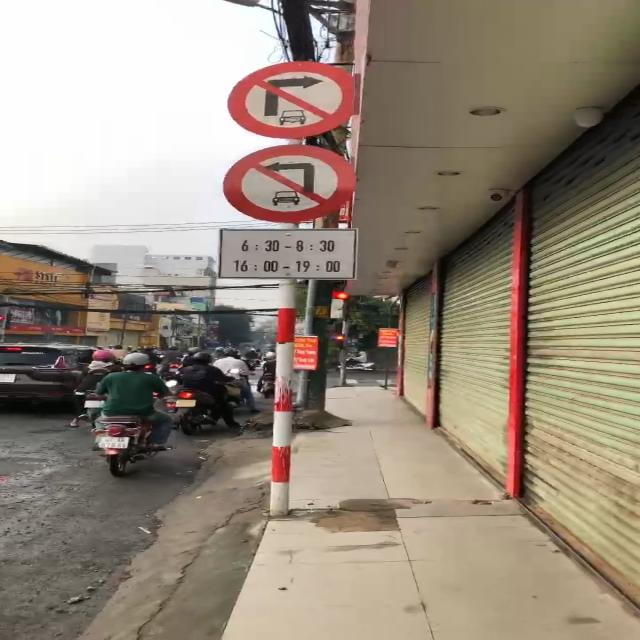Bien bao cam xe o to re phai: (224, 61, 370, 138)
Bien bao cam xe o to re trai: (214, 142, 370, 222)
